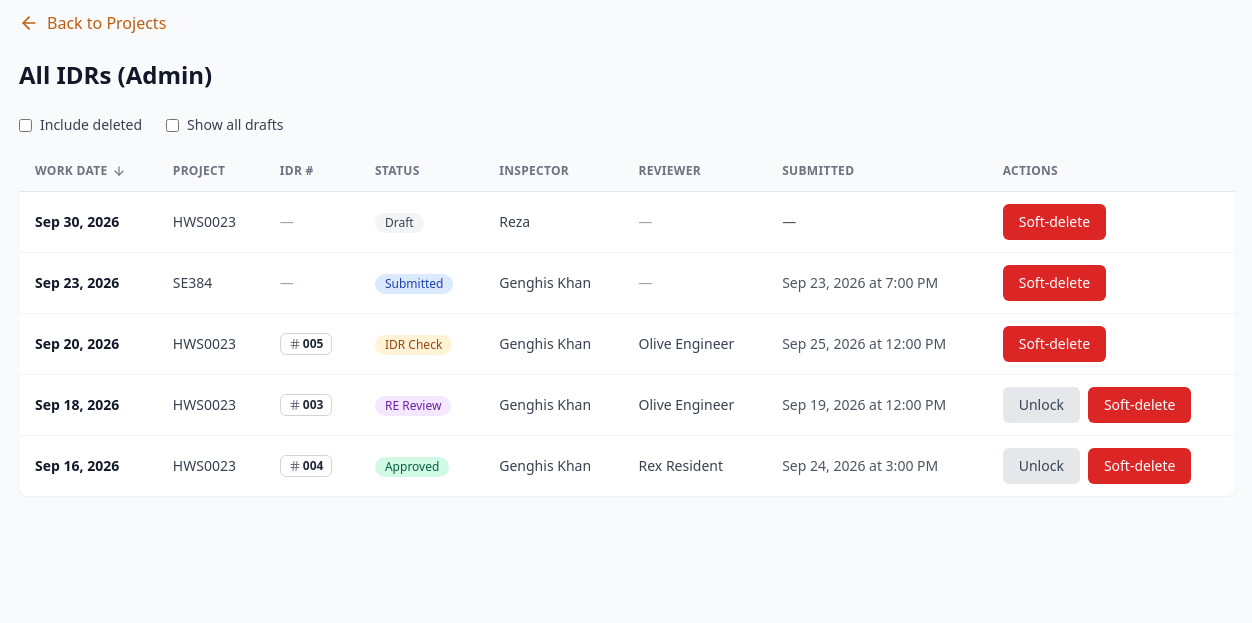
AdminIdrsPage — toggles › shows a deleted IDR crossed out, reading Deleted, a deleted draft of someone else's included
Click the checkbox labelled "Include deleted" at (26, 125), box [19,118,32,132]
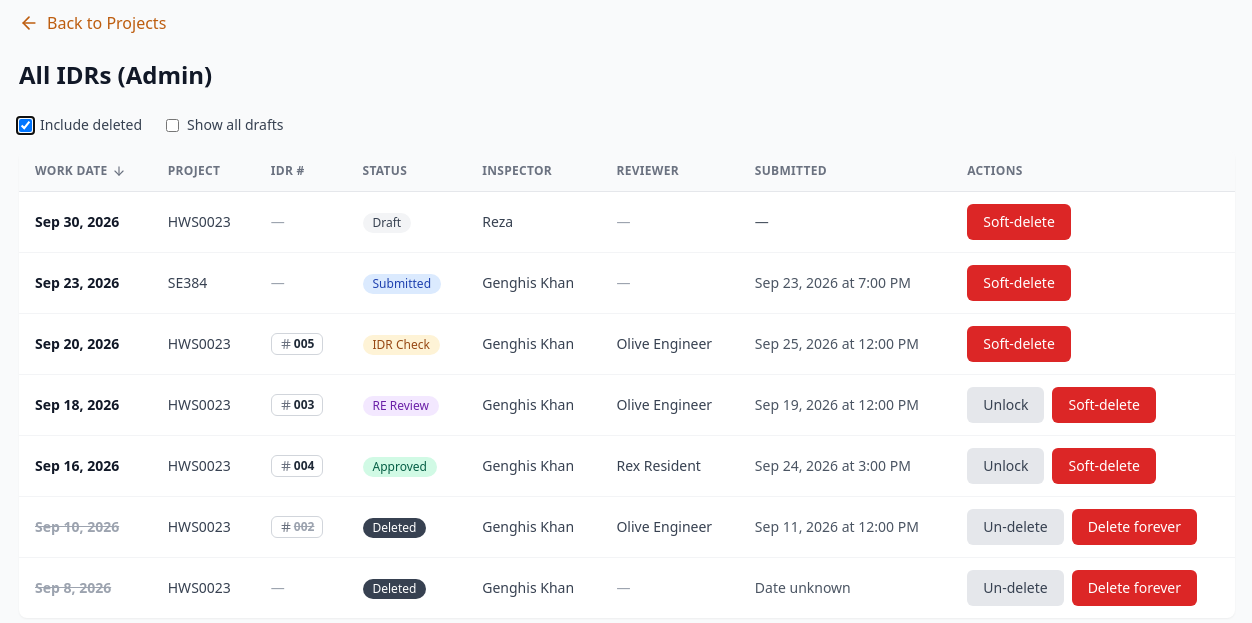
Expected: the text "Deleted" in the row of "Sep 10, 2026" is shown, [372,518,416,536]
